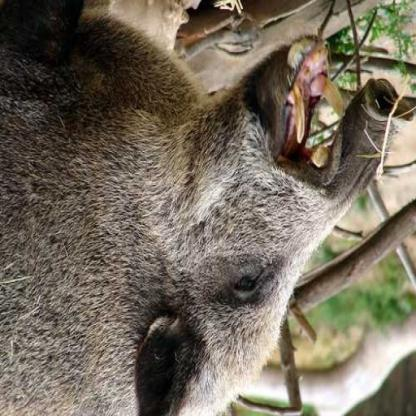boar: (46, 1, 415, 416)
